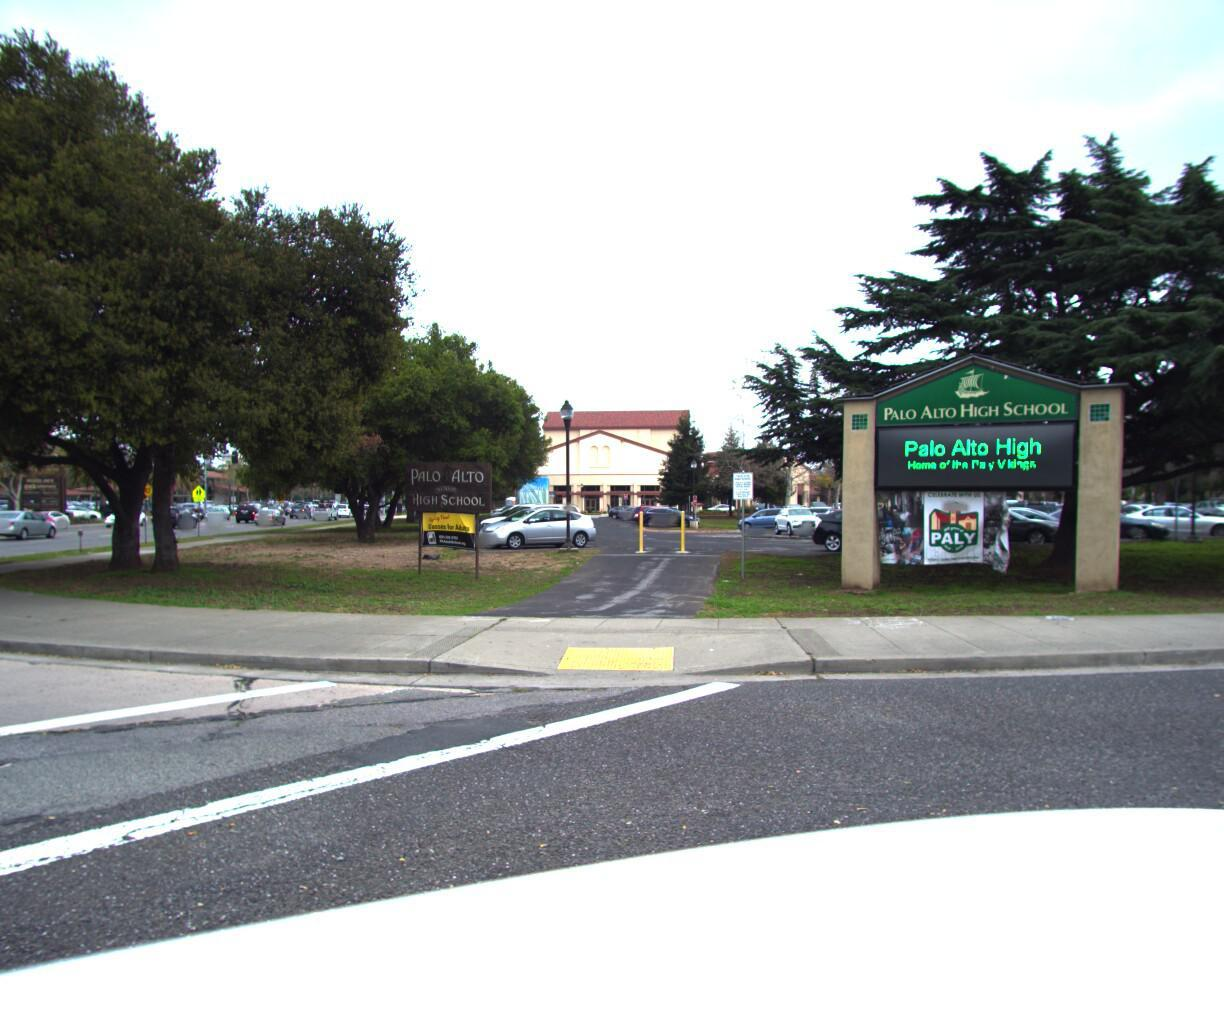car: (35, 509, 89, 529), (104, 511, 152, 530), (255, 510, 290, 528)
